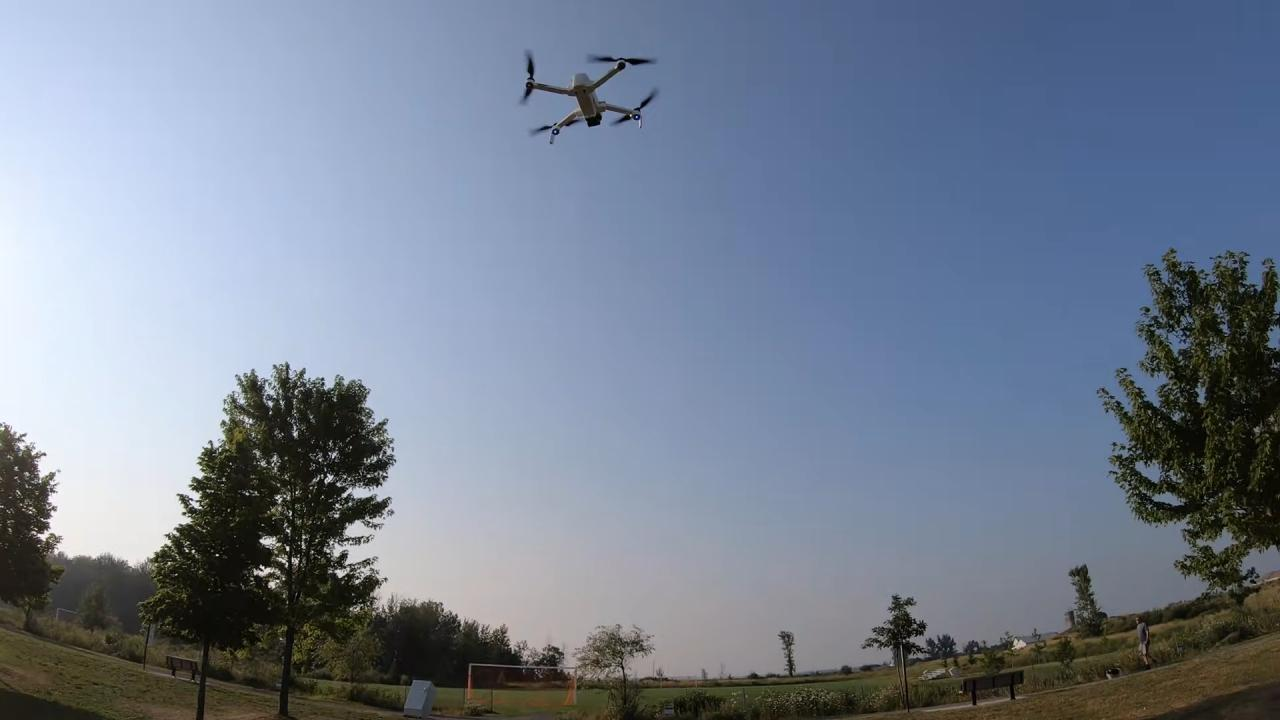Drone: (512, 37, 667, 152)
